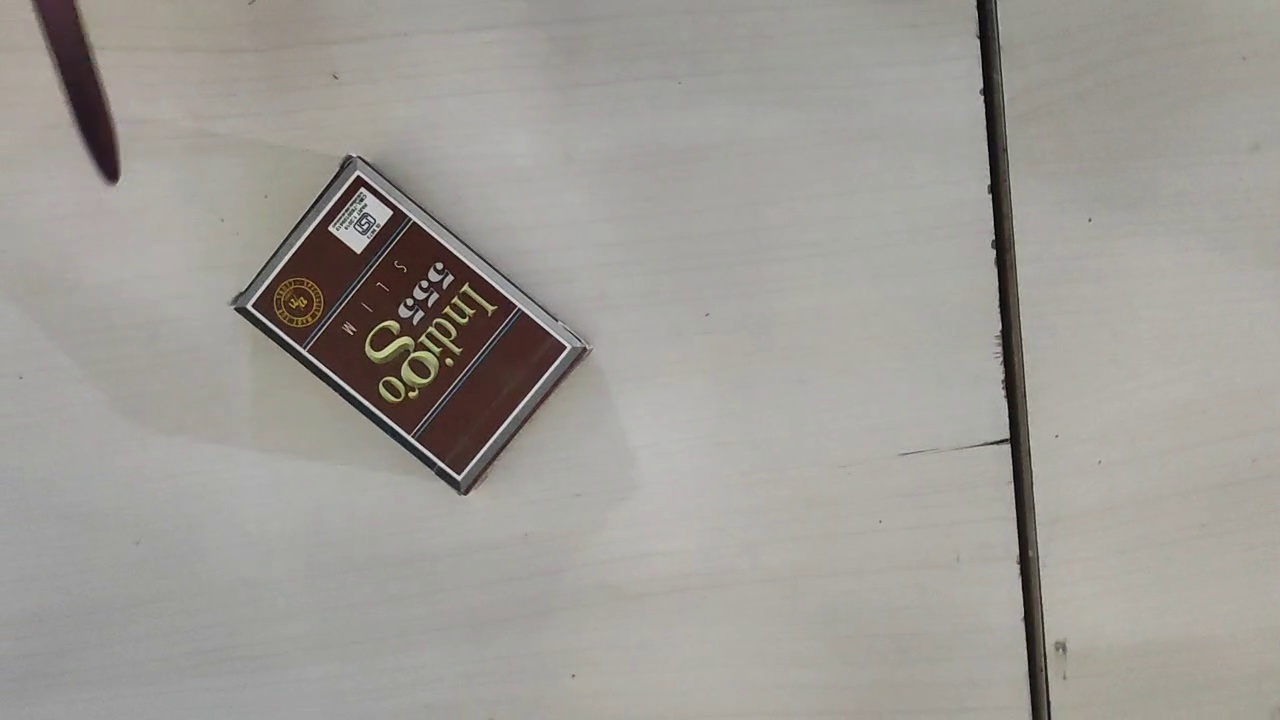BEX: (249, 169, 570, 477)
